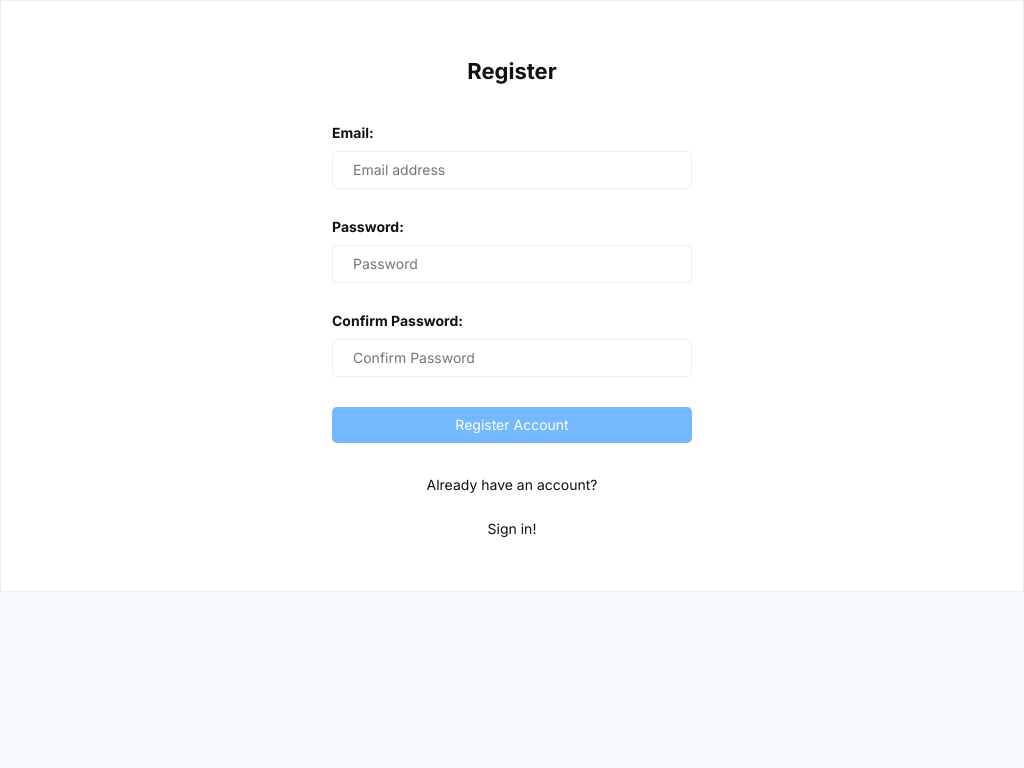
Scenario: AuthForm - Register variant › Shows confirm password error warning if submitted in invalid state
Type "test@test.com" into the field labelled "Email:".
click(512, 170); type("test@test.com")  # box [332, 151, 692, 189]
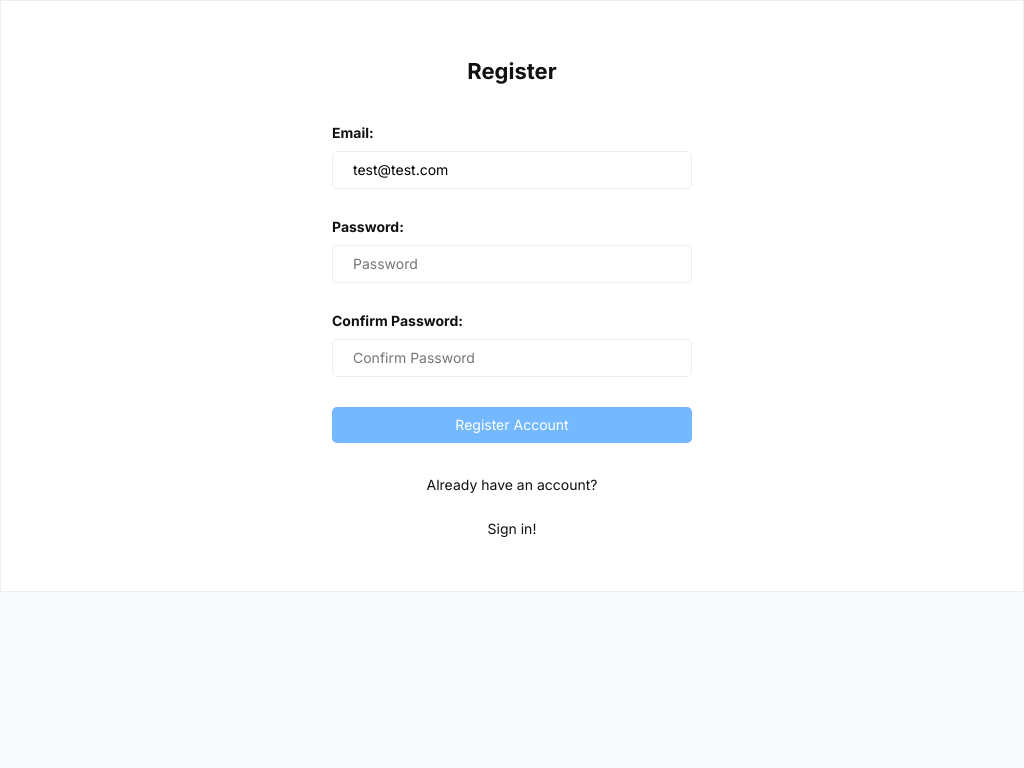
Type "testing123" into the password field labelled "Password:".
click(512, 264); type("testing123")  # box [332, 245, 692, 283]
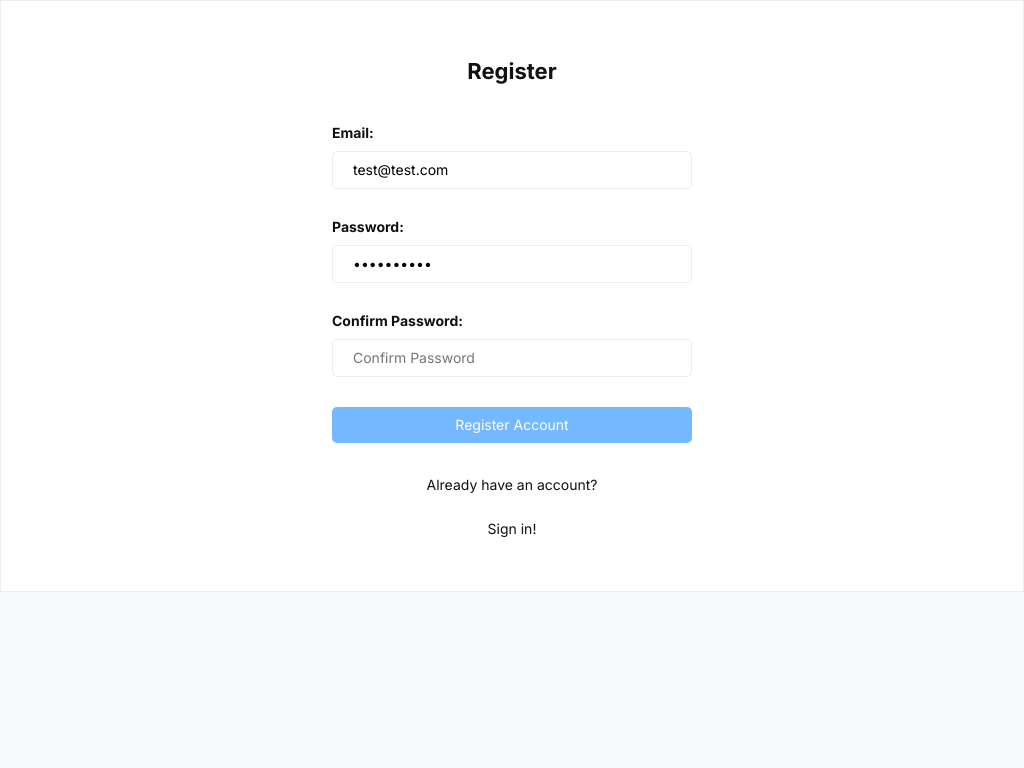
Click the button "Register Account".
click(512, 425)  # box [332, 407, 692, 443]
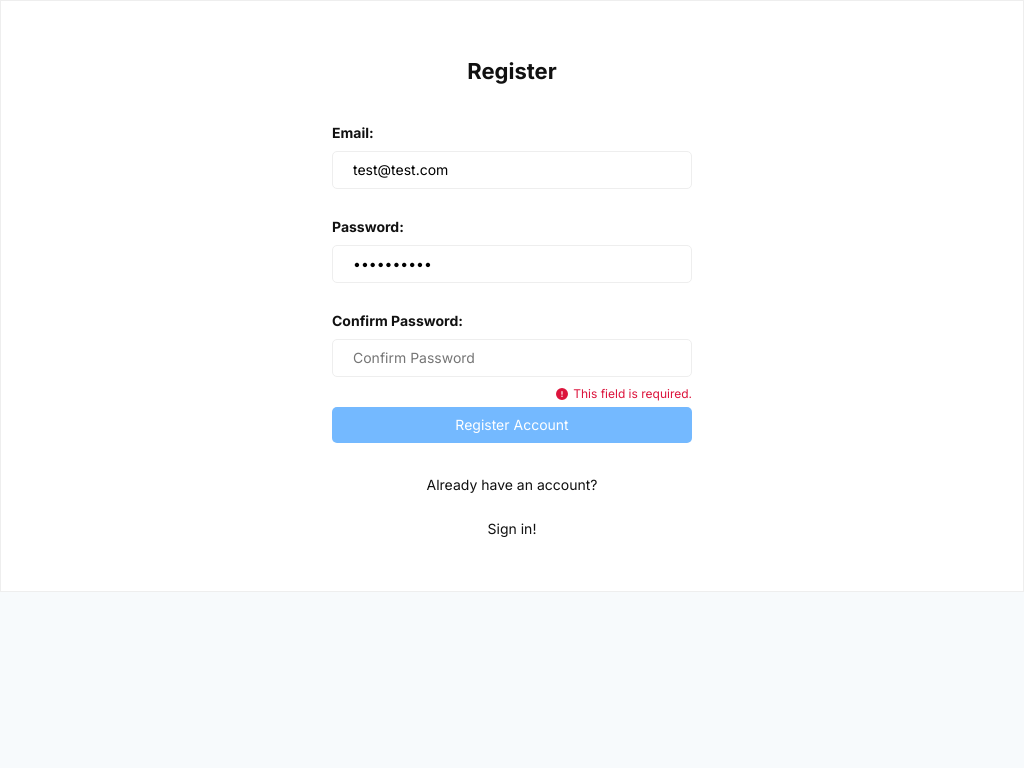
Now the text "This field is required." is shown, box [556, 387, 692, 400]
